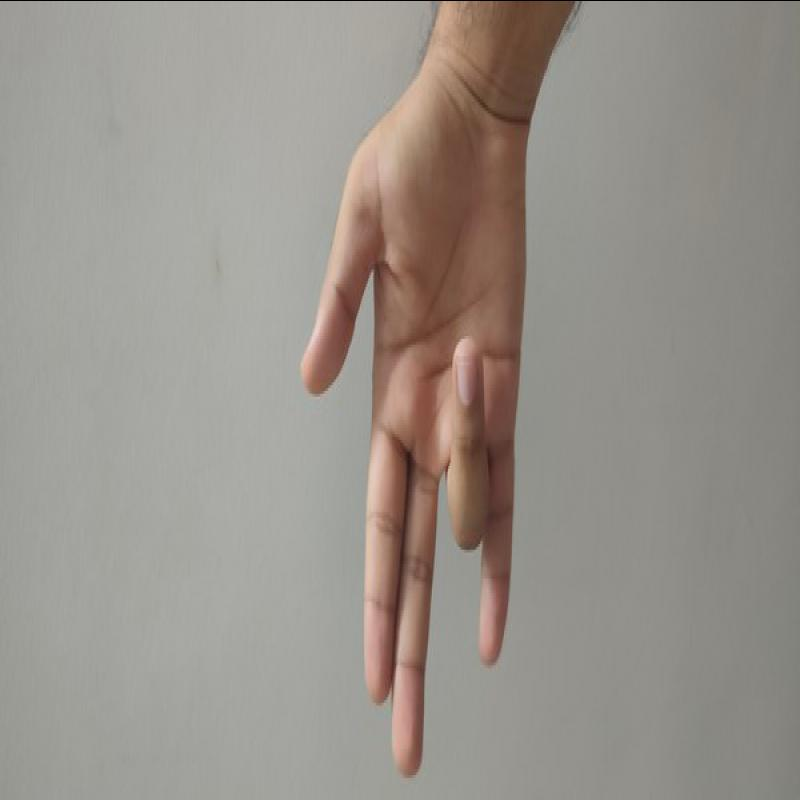Pathaaka: (238, 80, 583, 784)
